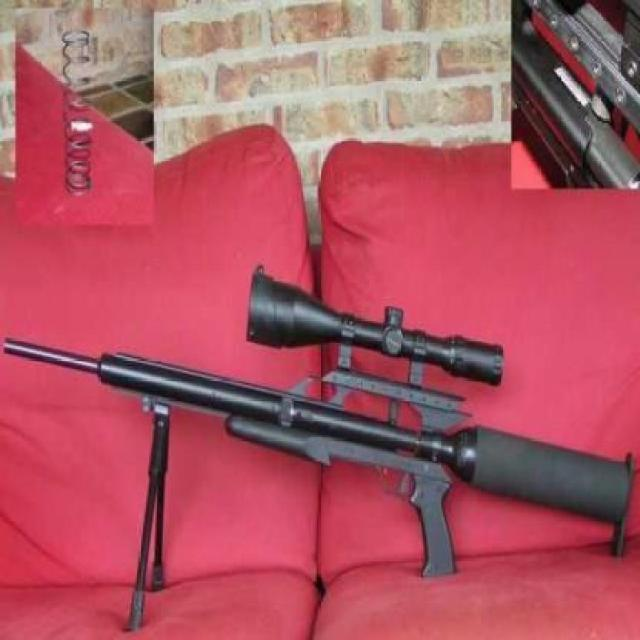weapon: (2, 265, 636, 634)
